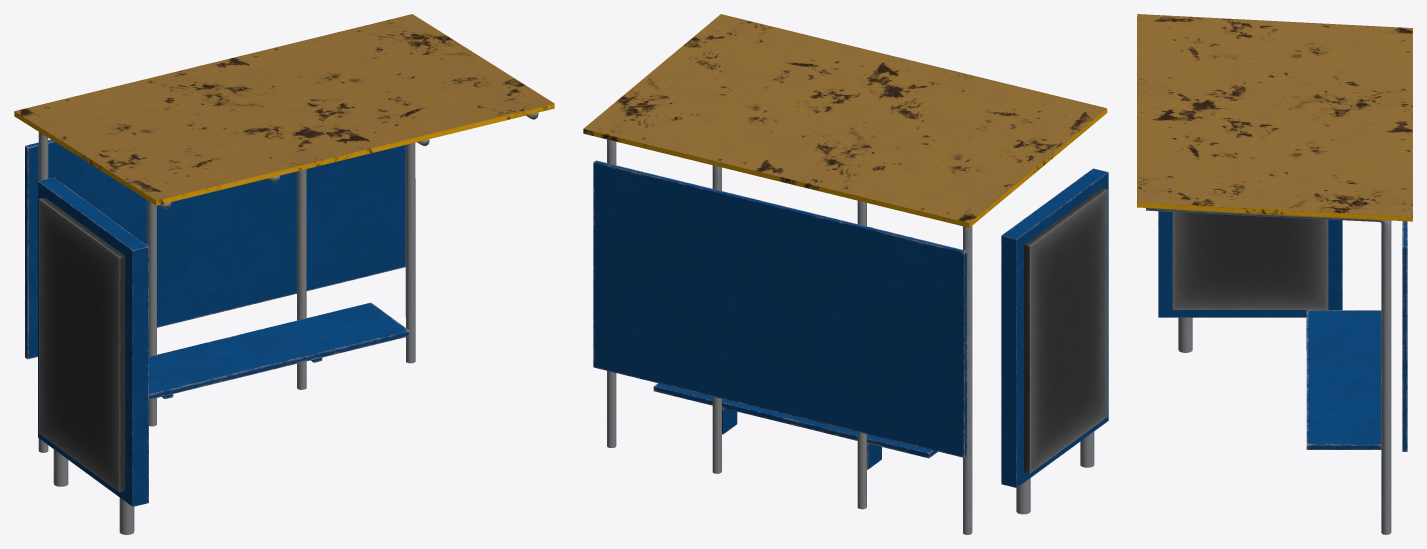
Rendered from Paradero.fbx.
3 views of the same model, side by side, from view 1: azimuth 30°, elevation 25°; view 2: azimuth 150°, elevation 25°; view 3: azimuth 270°, elevation 25° (orthographic). The views are drawn at different scales.
Parts seen in each view (by area): view 1: Paradero; view 2: Paradero; view 3: Paradero.
Boxes of the visible parts, x1=… form: Paradero: x1=14, y1=14, x2=554, y2=534; Paradero: x1=583, y1=14, x2=1108, y2=534; Paradero: x1=1137, y1=14, x2=1412, y2=534.
Bounding box in the file's own units: 307 × 245 × 181.
Materials: 1 (1 with a texture image).
